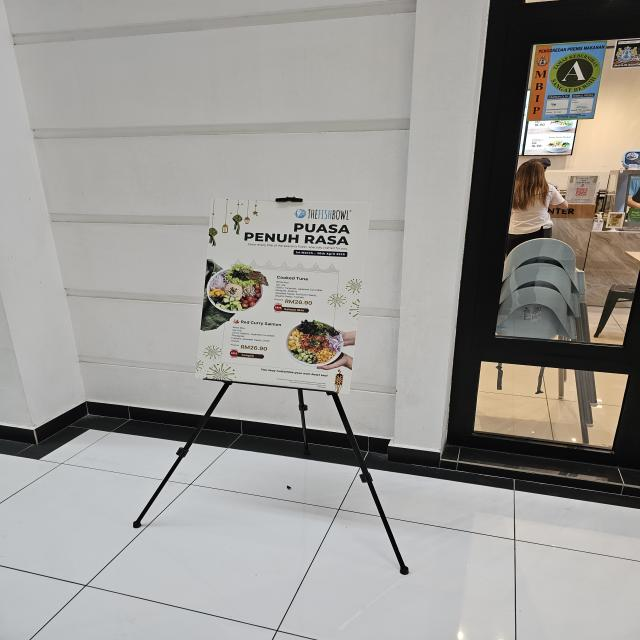obstacle: (128, 192, 414, 578)
person: (510, 158, 569, 245)
